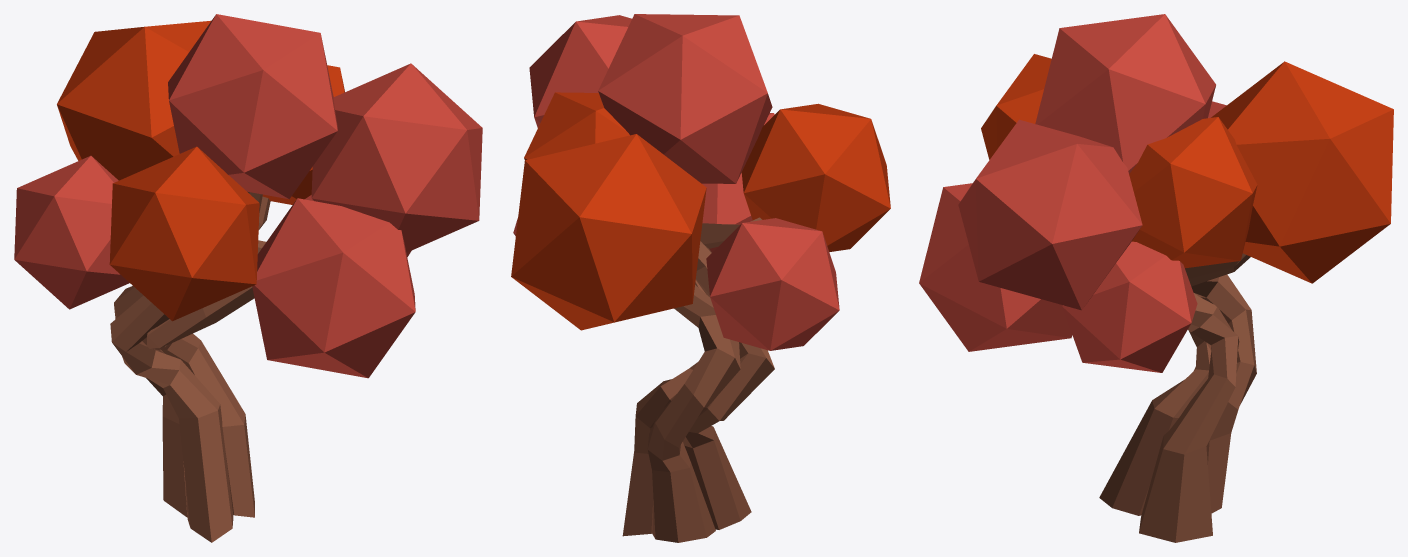
Rendered from Tree_06_summer_red_mat.fbx.
The picture shows the model from 3 angles, left to right: view 1: azimuth 30°, elevation 25°; view 2: azimuth 150°, elevation 25°; view 3: azimuth 270°, elevation 25°; orthographic projection. The views are drawn at different scales.
Visible parts, largest first — view 1: Tree_06_summer_red_mat; view 2: Tree_06_summer_red_mat; view 3: Tree_06_summer_red_mat.
Part boxes in pixels (x1,y1,x2,y2): Tree_06_summer_red_mat: (14,14,482,542); Tree_06_summer_red_mat: (511,14,890,542); Tree_06_summer_red_mat: (919,14,1393,542).
Bounding box in the file's own units: 488 × 598 × 507.
